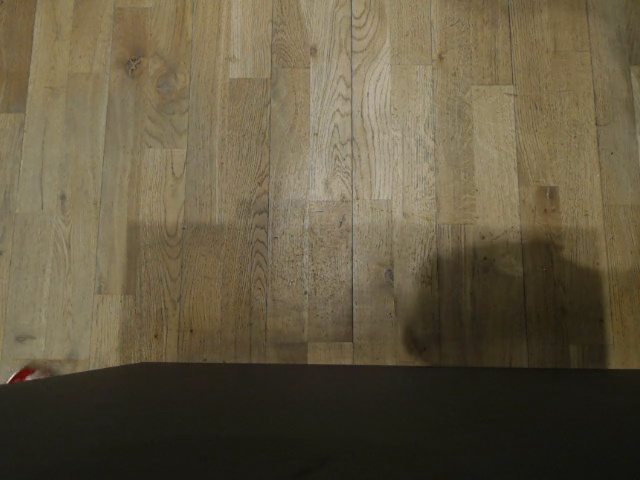cola: (0, 364, 57, 384)
